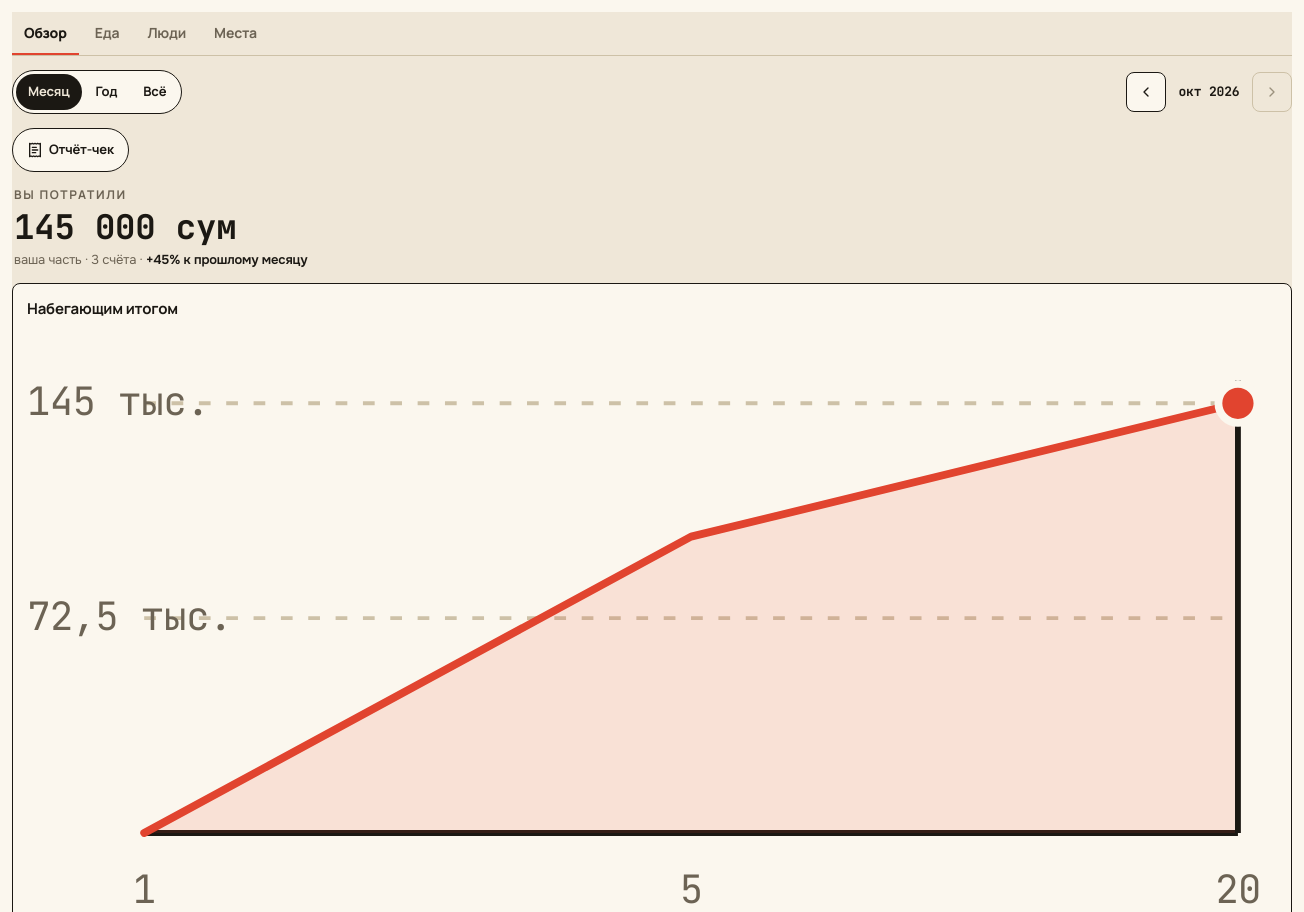
AnalyticsPanel › shows a period seen before at once and asks for it again quietly
Later steps or results of the test are not shown.
Expected: the text "145 000 сум" is shown, [14,204,236,248]
What coordinates should you click on to do the following:
click the button named "Предыдущий период"
I would click on:
 (1146, 92)
Its box is [1126,72,1166,112].
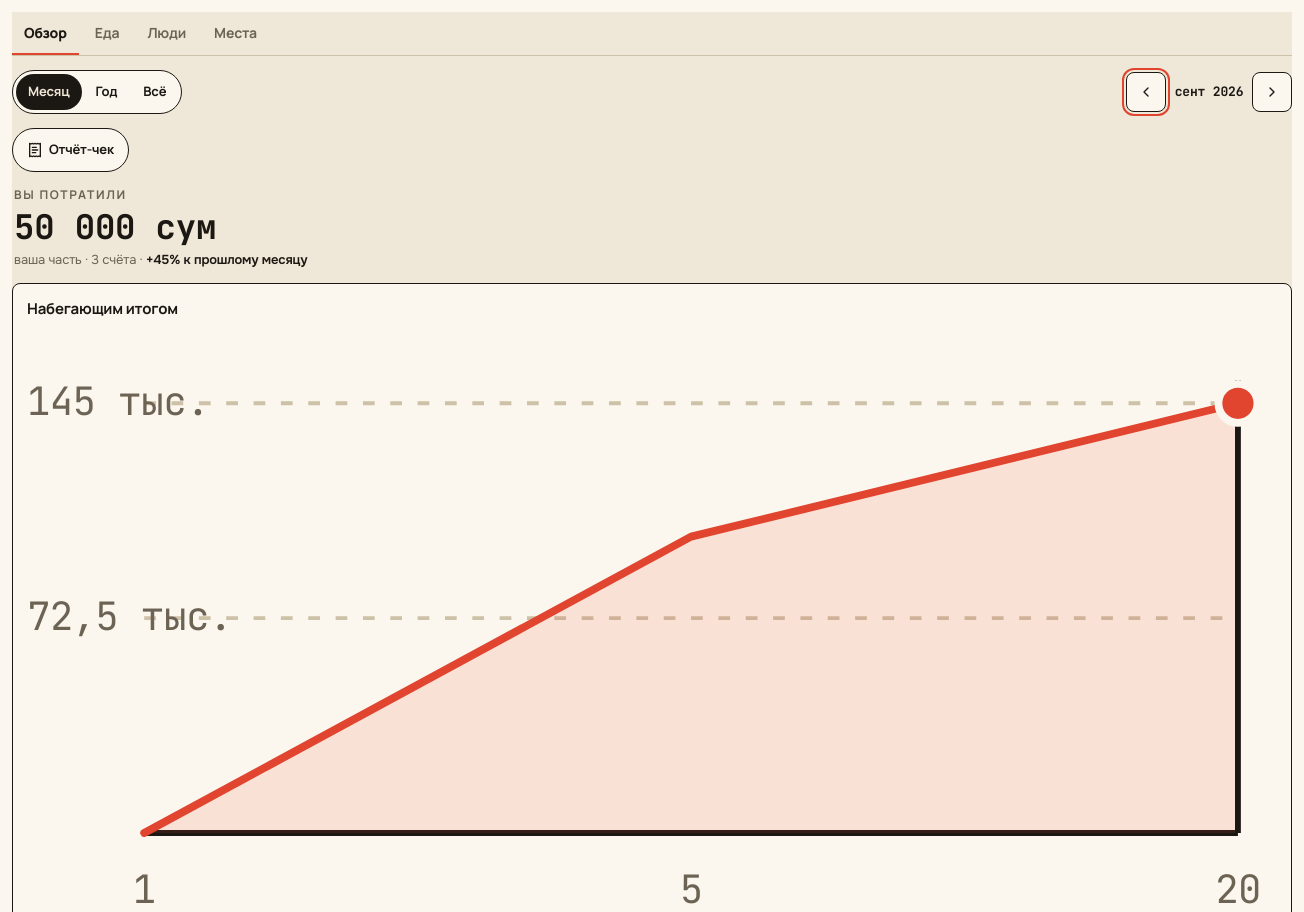
Expected: the text "50 000 сум" is shown, [14,204,216,248]
